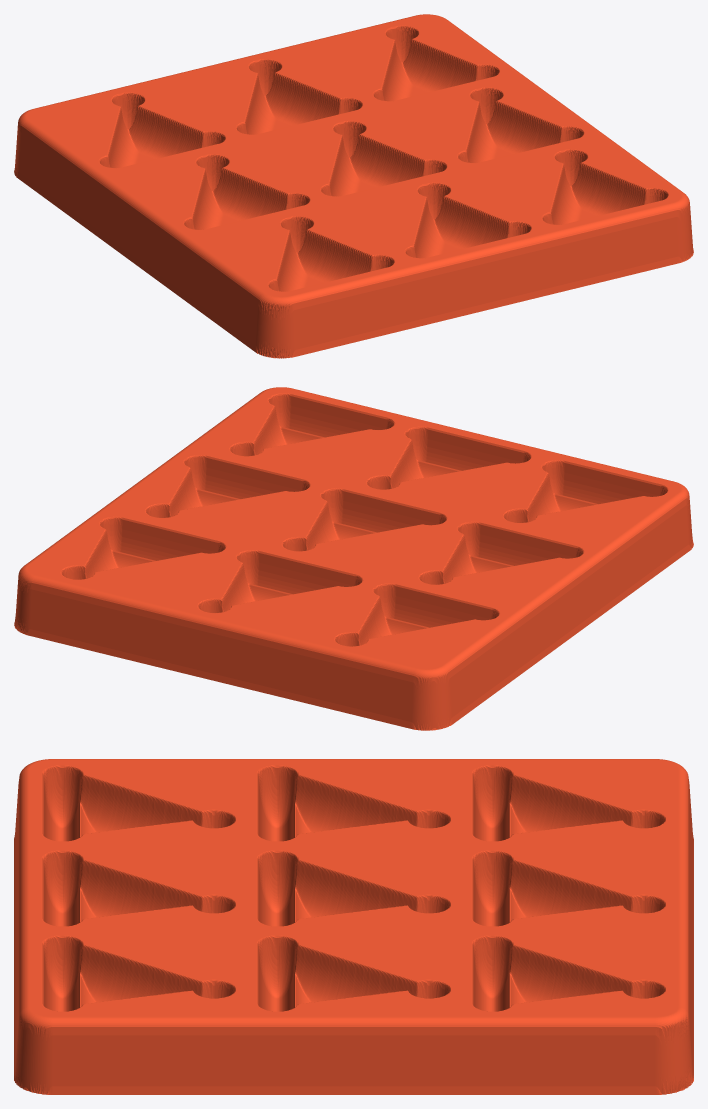
File: mold.glb
The picture shows the model from 3 angles, top to bottom: view 1: azimuth 30°, elevation 25°; view 2: azimuth 150°, elevation 25°; view 3: azimuth 270°, elevation 25°; orthographic projection. The views are drawn at different scales.
Visible parts, largest first — view 1: geometry_0; view 2: geometry_0; view 3: geometry_0.
Boxes of the visible parts, <box> form: geometry_0: <box>14,14,693,358</box>; geometry_0: <box>14,387,693,730</box>; geometry_0: <box>14,759,693,1094</box>.
Size of the model in its own units: 0.1499 by 0.0185 by 0.1595.
